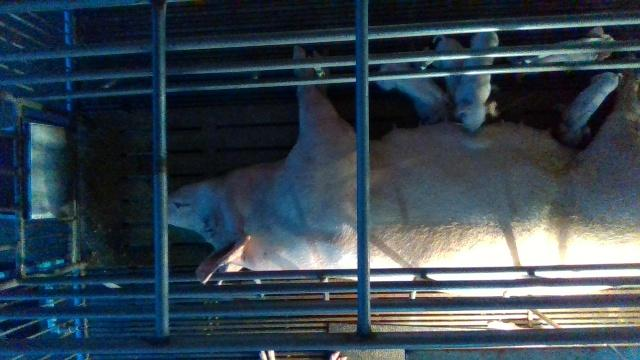piglet: (555, 73, 620, 148), (377, 63, 451, 123), (457, 31, 499, 131)
sow-sleep-lactate: (171, 47, 640, 296)
